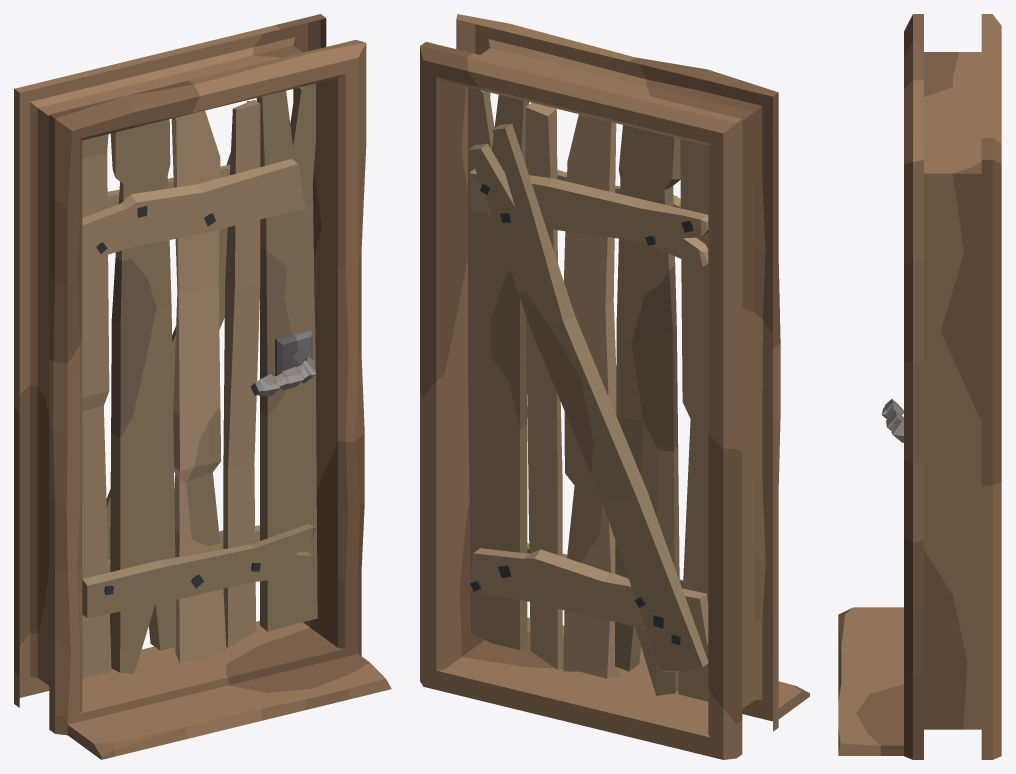
The model's file is SM_Door_C.fbx.
3 views of the same model, side by side, from view 1: azimuth 30°, elevation 25°; view 2: azimuth 150°, elevation 25°; view 3: azimuth 270°, elevation 25° (orthographic). The views are drawn at different scales.
Parts seen in each view (by area): view 1: SM_DoorС, SM_Door_C; view 2: SM_DoorС, SM_Door_C; view 3: SM_Door_C, SM_DoorС.
Boxes of the visible parts, x1,y1,x2,y2 form: SM_DoorС: (82, 83, 317, 678); SM_Door_C: (14, 14, 391, 759); SM_DoorС: (468, 87, 708, 701); SM_Door_C: (420, 14, 809, 759); SM_Door_C: (838, 14, 1001, 759); SM_DoorС: (881, 399, 903, 442).
Size of the model in its own units: 122 by 232 by 56.81.
